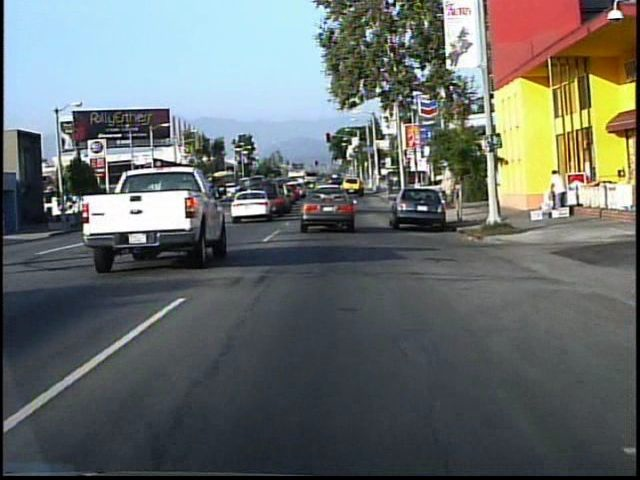person: (544, 163, 568, 209)
